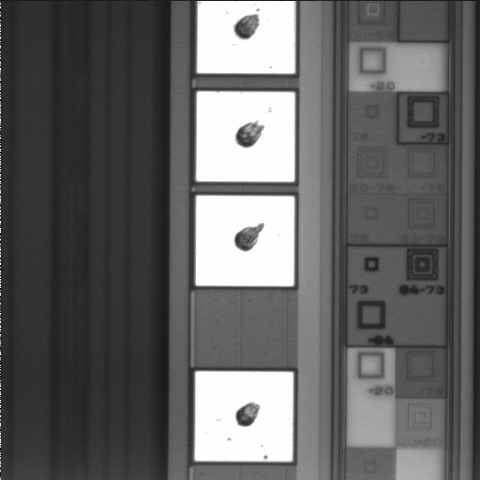pad: (196, 91, 295, 182), (195, 371, 293, 462), (196, 196, 294, 286)
